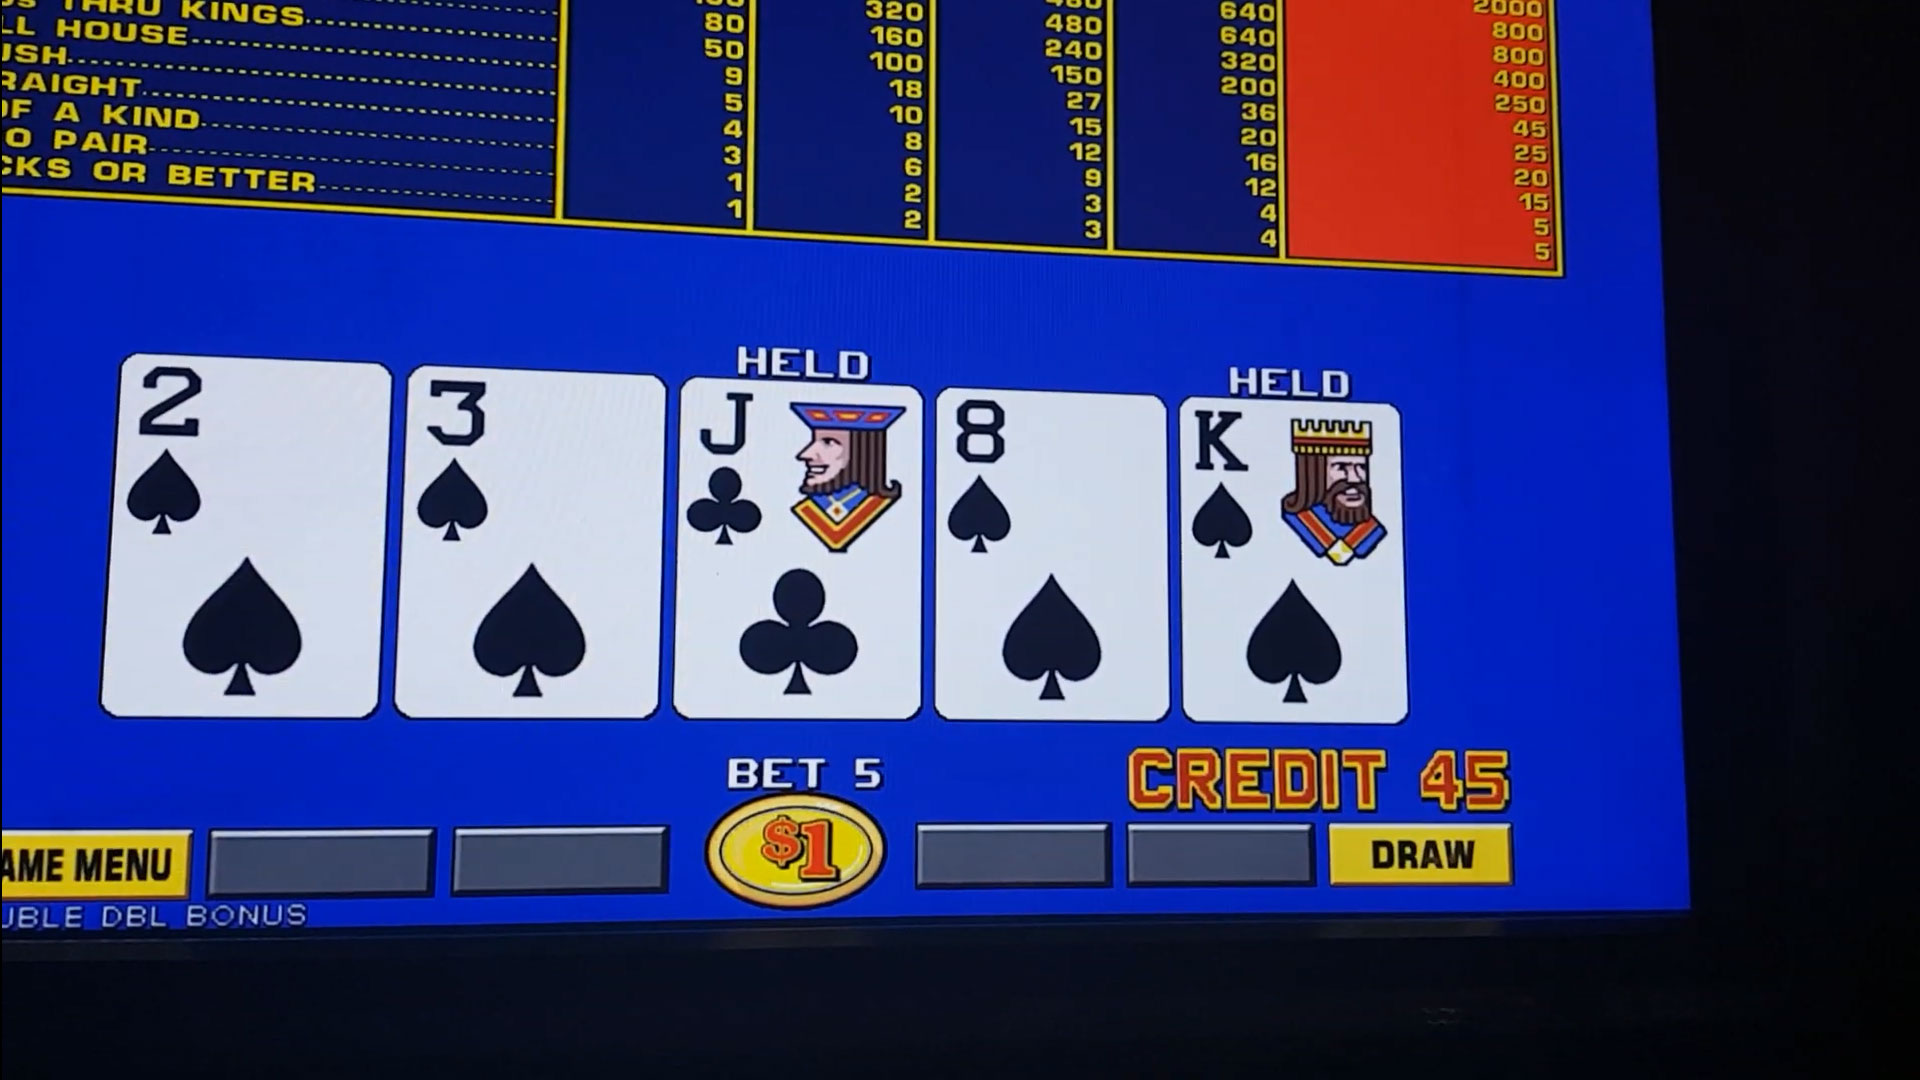CJ: (683, 392, 918, 567)
S2: (127, 368, 375, 541)
S3: (415, 380, 659, 553)
S8: (940, 401, 1166, 578)
SK: (1182, 404, 1396, 578)
